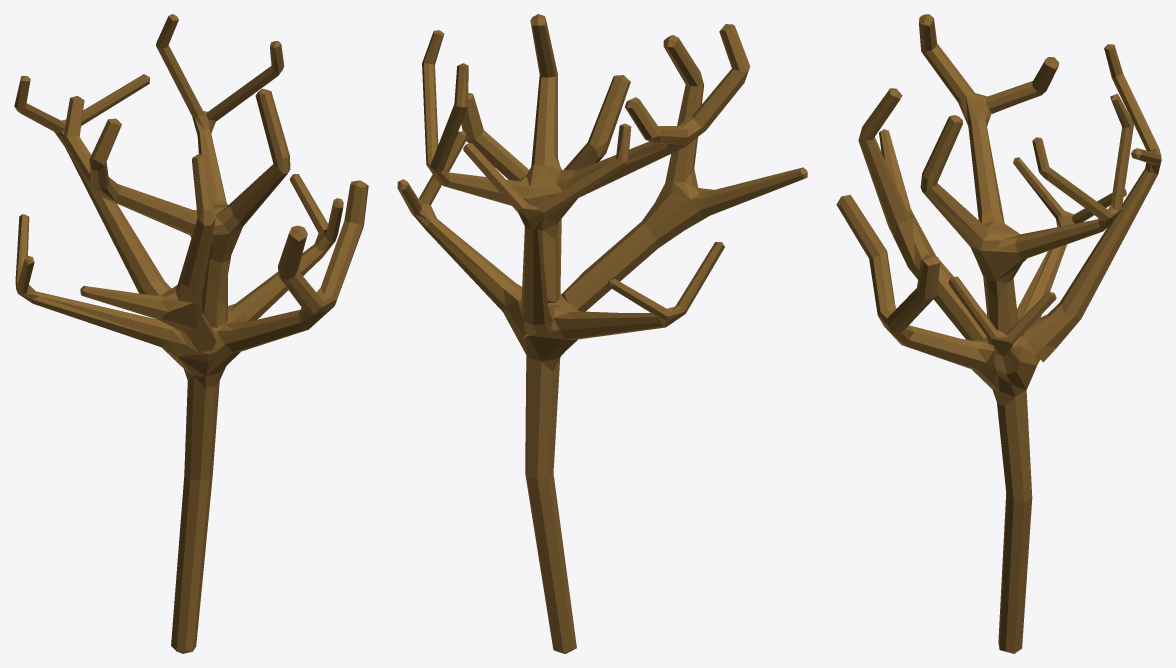
The model's file is Tree_3.fbx.
3 renders of one model, left to right at view 1: azimuth 30°, elevation 25°; view 2: azimuth 150°, elevation 25°; view 3: azimuth 270°, elevation 25°, orthographic. The views are drawn at different scales.
Visible parts, largest first — view 1: Branch; view 2: Branch; view 3: Branch.
Boxes of the visible parts, bbox=[...] form: Branch: bbox=[14, 14, 368, 653]; Branch: bbox=[397, 14, 807, 653]; Branch: bbox=[836, 14, 1161, 653].
Bounding box in the file's own units: 269 × 488 × 247.
